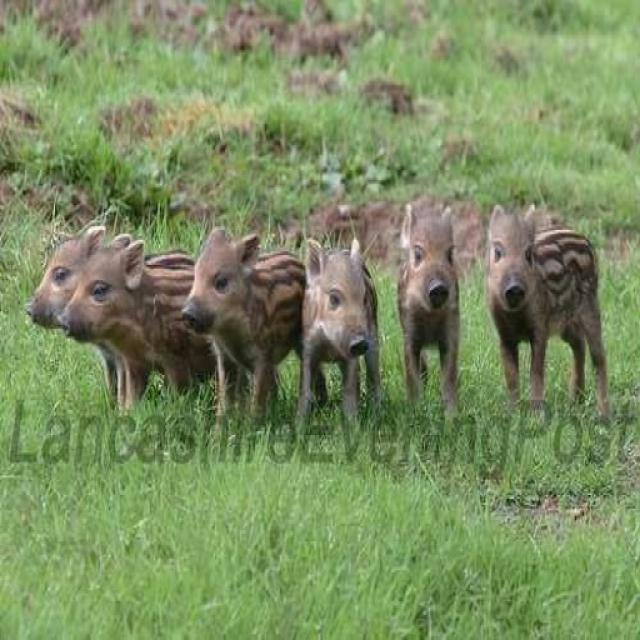pig: (473, 189, 611, 427), (294, 241, 386, 484), (191, 227, 305, 423), (70, 252, 212, 406), (392, 196, 472, 396), (23, 213, 81, 332)
